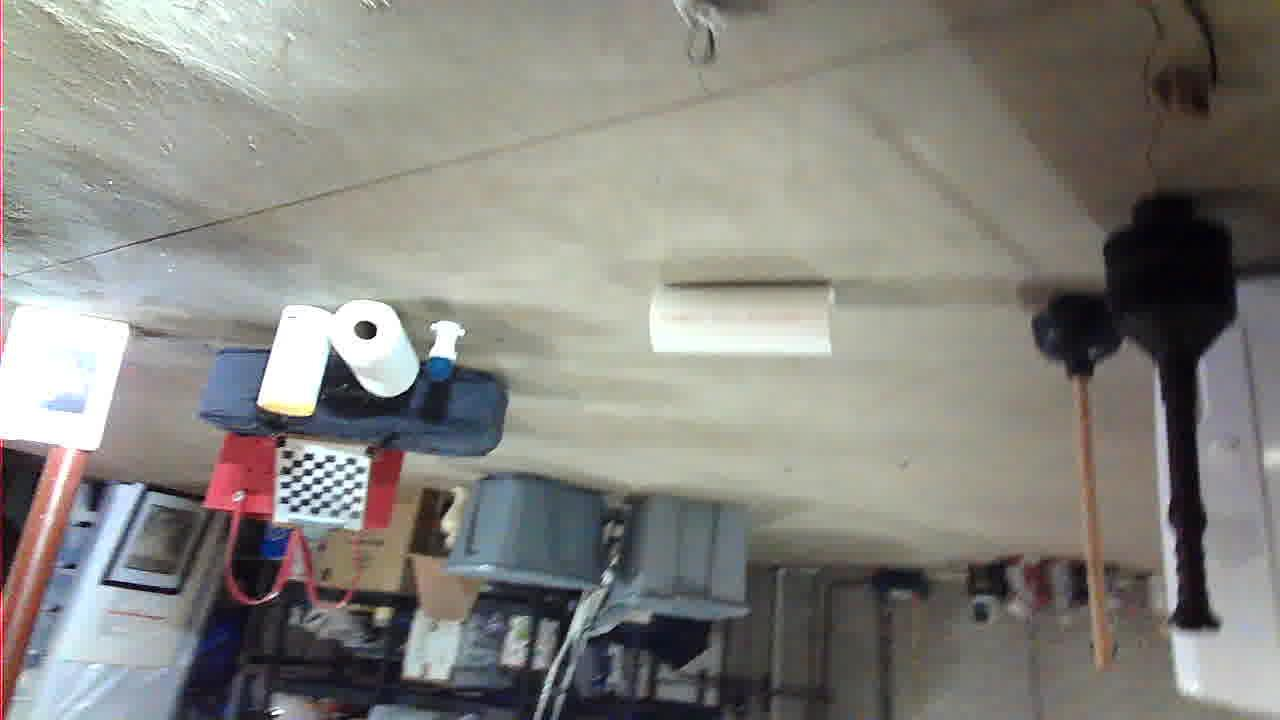coral: (446, 366, 633, 441)
